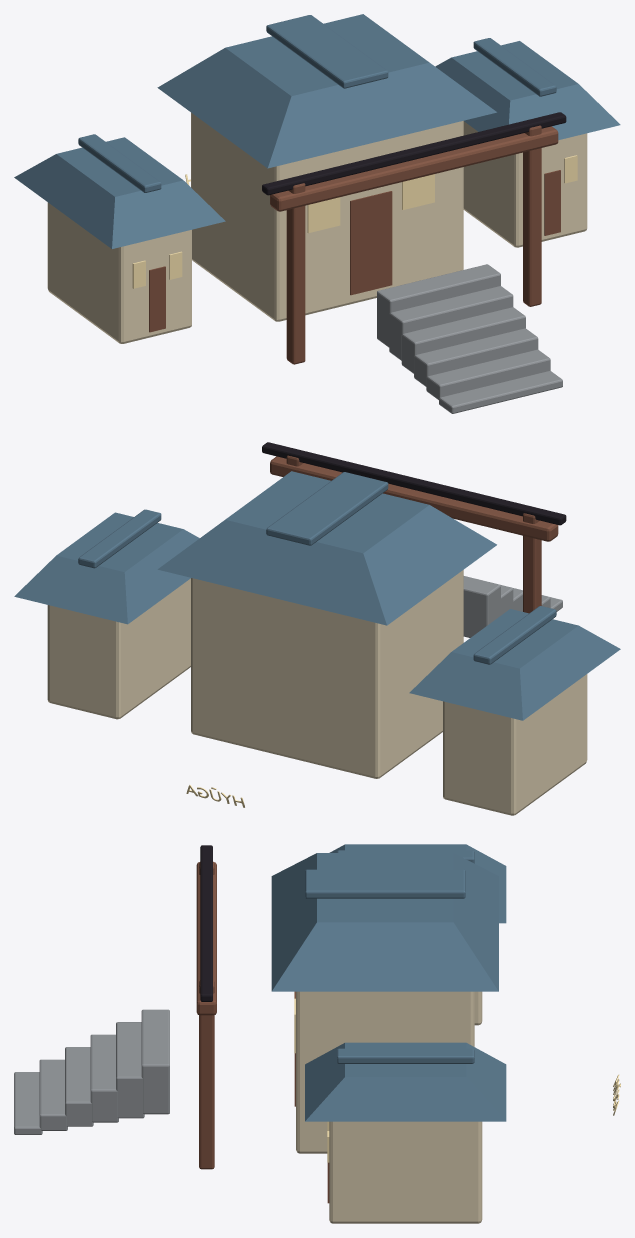
File: 04_hyuga.glb
3 views of the same model, one above another, from view 1: azimuth 30°, elevation 25°; view 2: azimuth 150°, elevation 25°; view 3: azimuth 270°, elevation 25° (orthographic). The views are drawn at different scales.
Parts seen in each view (by area): view 1: cliff_main_body; view 2: cliff_main_body; view 3: cliff_main_body.
Boxes of the visible parts, box(x1,y1,x2,y2) form: cliff_main_body: box(14, 14, 620, 413); cliff_main_body: box(14, 442, 620, 815); cliff_main_body: box(14, 844, 506, 1223).
Size of the model in its own units: 12.44 by 5.17 by 12.5.
